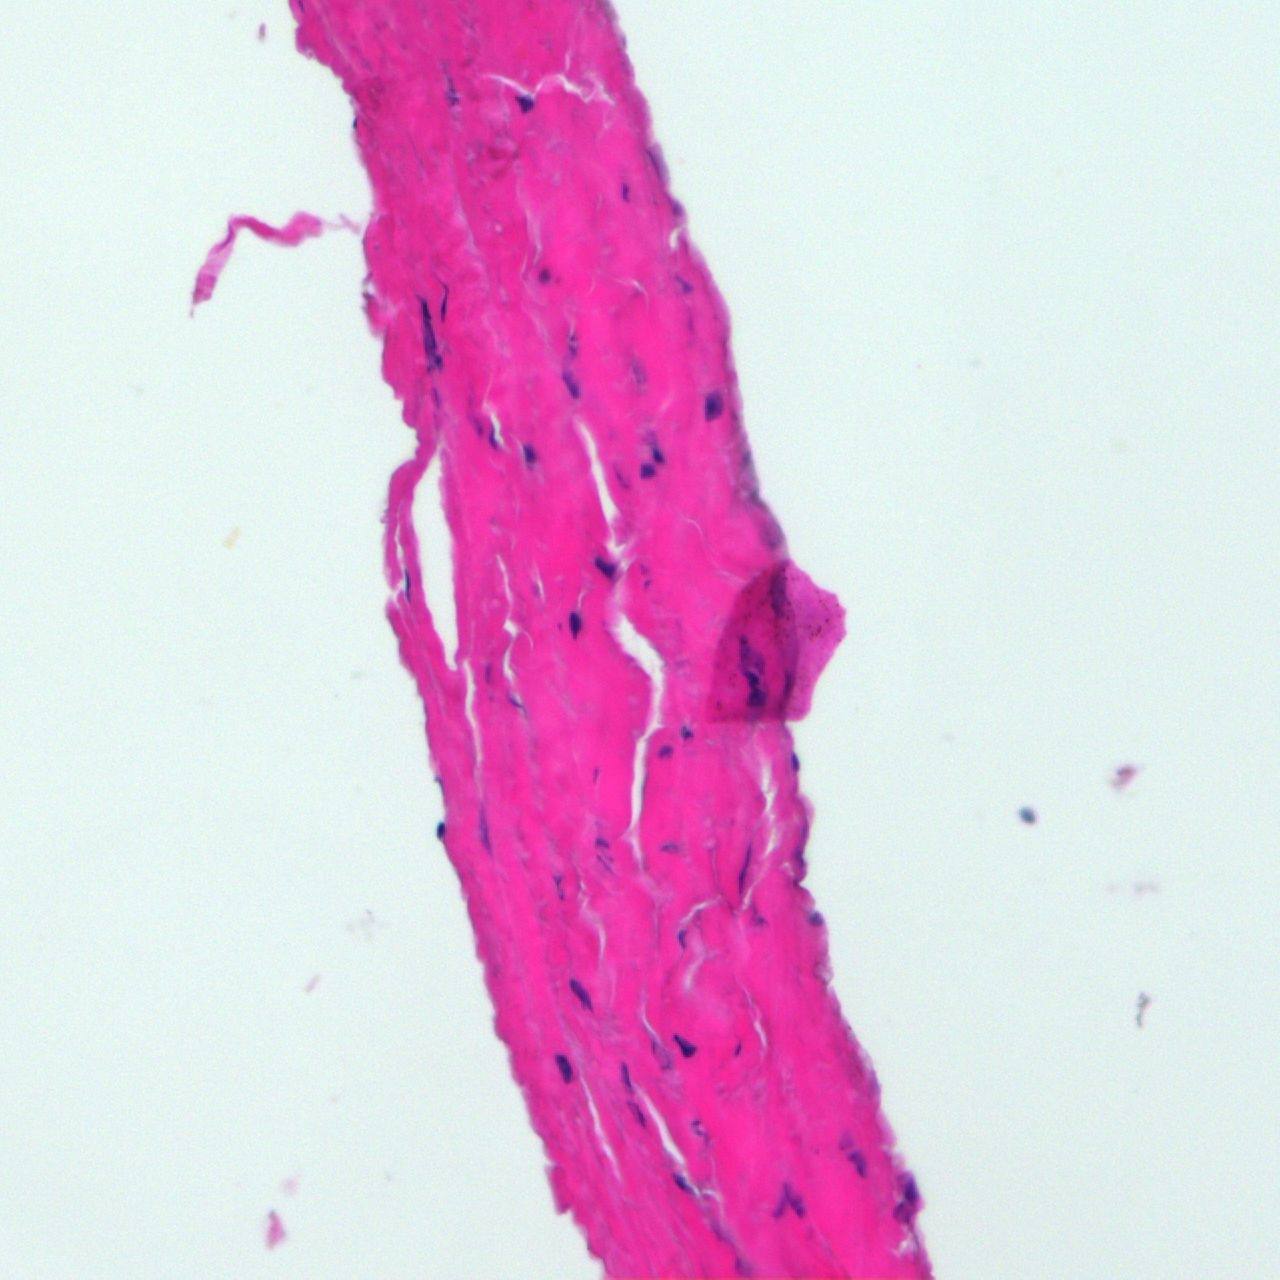dust: (1017, 803, 1039, 828), (434, 821, 445, 838)
nucleus-HE: (411, 297, 445, 375), (564, 973, 598, 1017), (731, 840, 755, 896), (772, 1182, 804, 1220), (666, 1027, 699, 1061), (440, 64, 462, 109), (557, 368, 585, 400), (685, 1114, 712, 1146), (628, 347, 647, 394), (552, 1049, 577, 1084), (625, 1098, 651, 1126), (703, 388, 724, 422), (476, 804, 490, 852), (594, 553, 617, 579), (847, 1148, 864, 1175), (486, 421, 501, 451), (515, 93, 535, 114), (744, 688, 765, 707), (904, 1175, 918, 1203), (522, 441, 537, 467), (568, 610, 581, 638), (673, 1172, 690, 1192), (440, 280, 448, 322), (614, 465, 627, 491), (658, 839, 681, 853), (737, 633, 749, 661), (678, 274, 694, 294), (483, 658, 493, 687), (403, 567, 411, 602), (744, 668, 760, 687), (620, 1061, 629, 1091), (567, 331, 578, 358), (554, 871, 564, 900), (536, 266, 551, 284), (639, 459, 654, 477), (656, 743, 672, 758), (808, 910, 822, 926), (651, 445, 663, 463), (678, 928, 687, 949), (790, 753, 799, 771), (734, 1039, 743, 1057), (680, 726, 692, 740), (593, 836, 607, 847), (621, 182, 629, 200), (592, 767, 600, 782)
